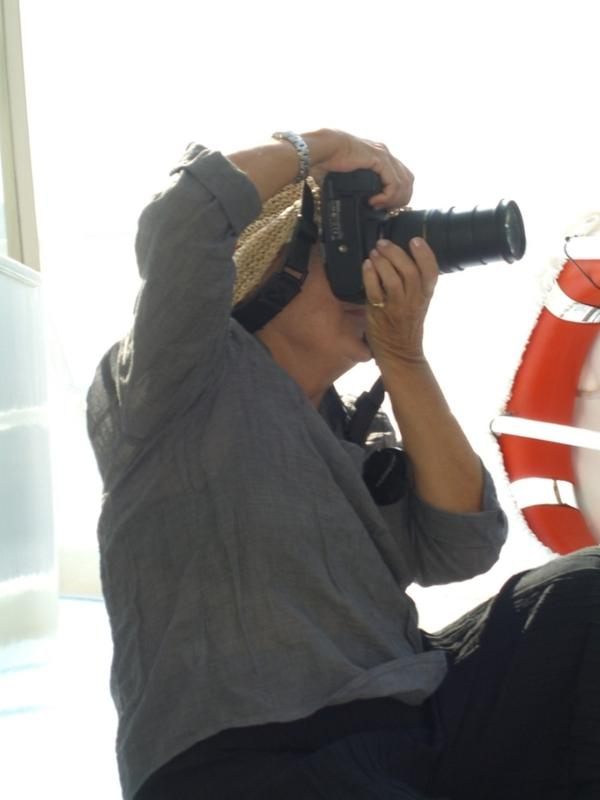person: (86, 128, 600, 799)
